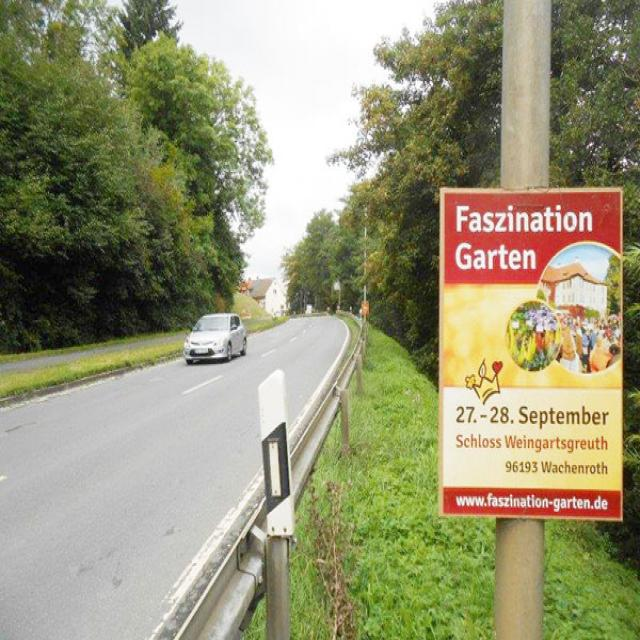Werbetafel frei: (438, 188, 624, 522)
